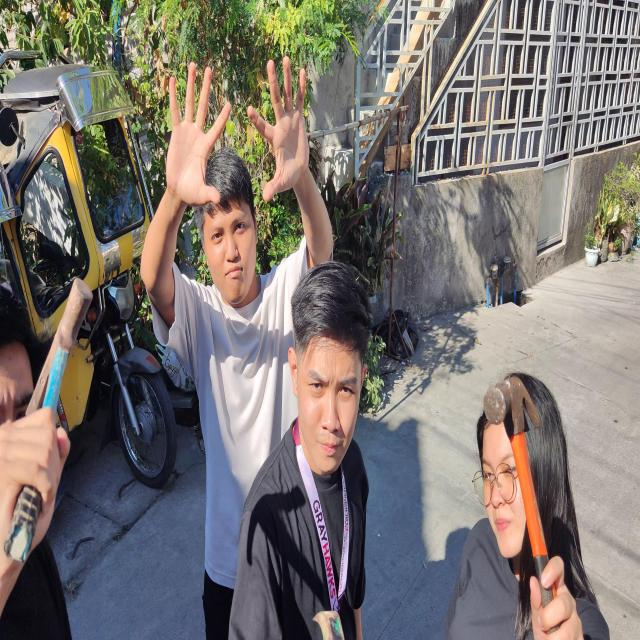hammer: (3, 278, 93, 562), (483, 377, 557, 610)
